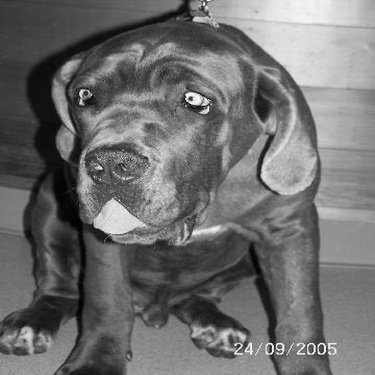dog: (1, 7, 339, 372)
